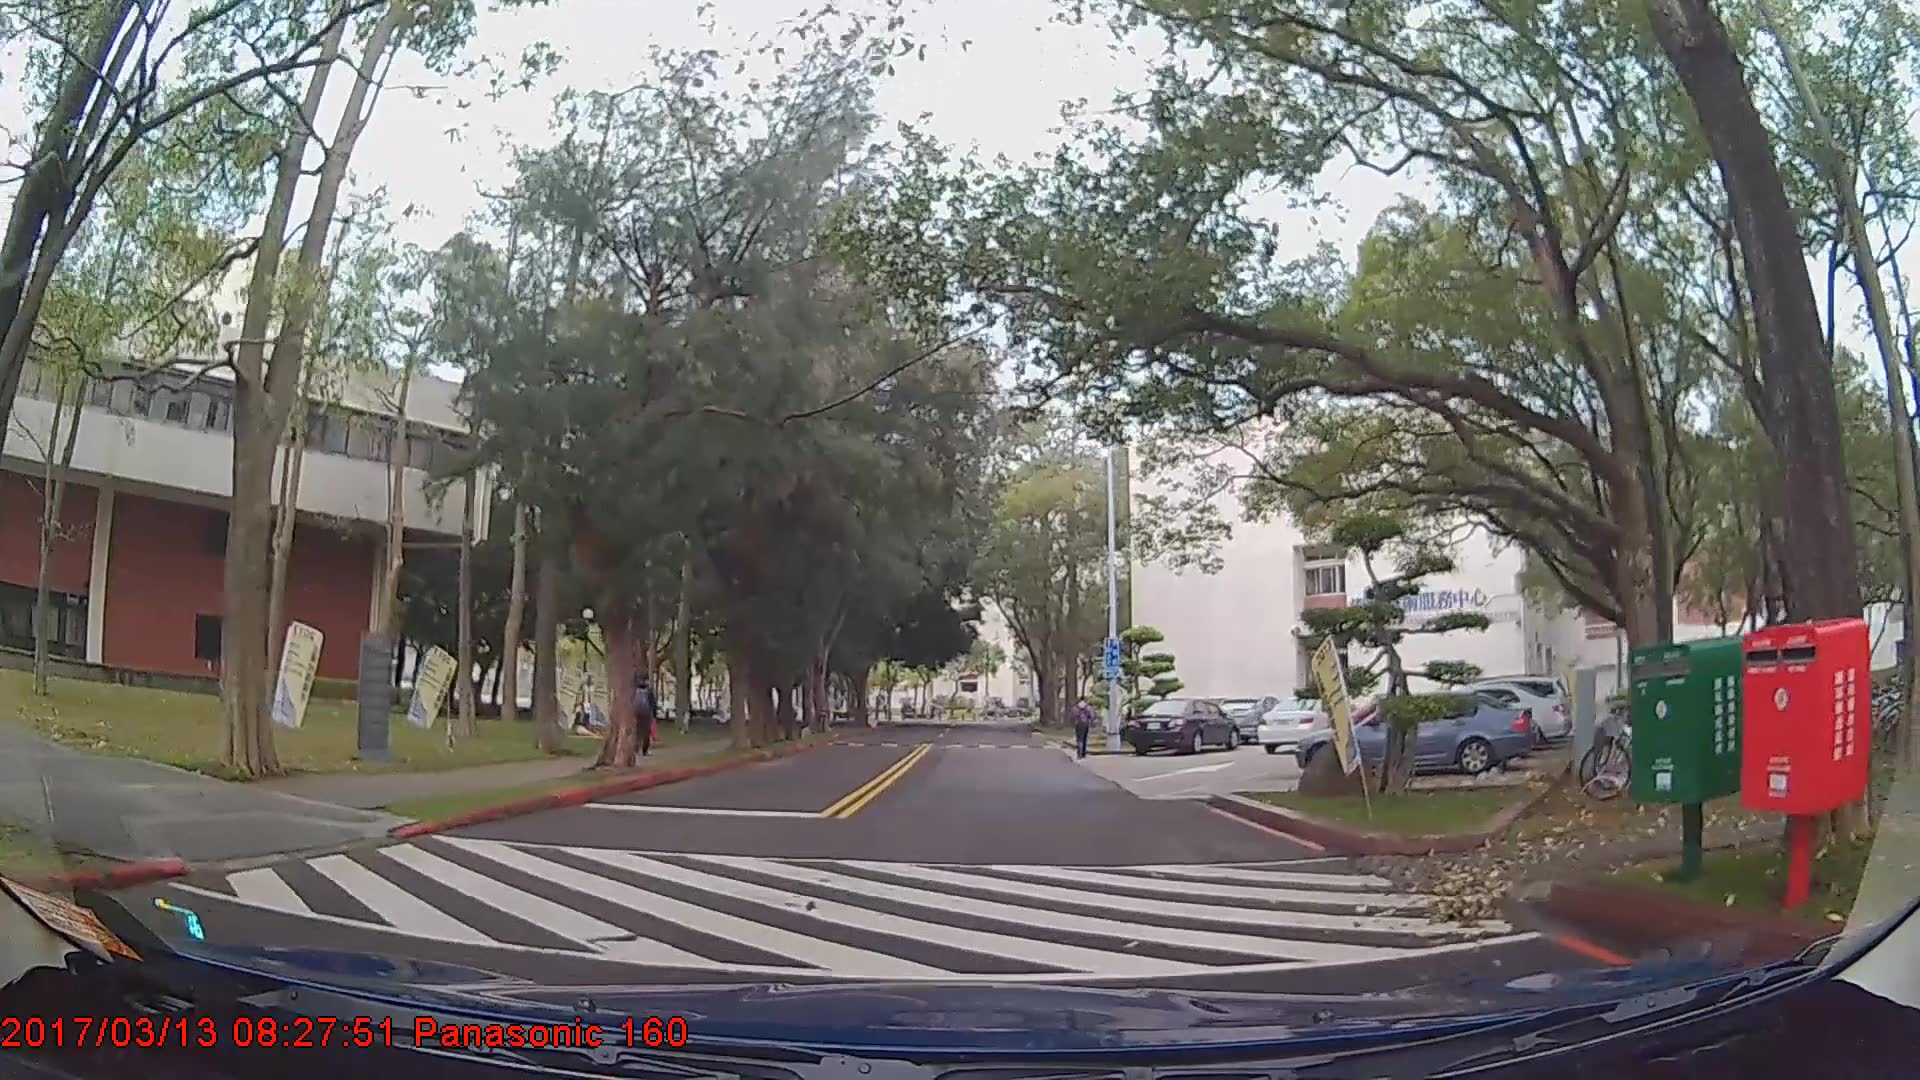pedestrian: (626, 672, 659, 756), (1068, 693, 1098, 759)
vehicle: (1298, 688, 1536, 780), (1406, 680, 1566, 749), (1121, 697, 1238, 755), (1256, 692, 1349, 753)
